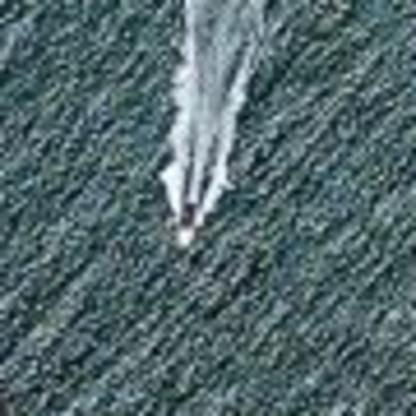ship: (170, 186, 201, 255)
